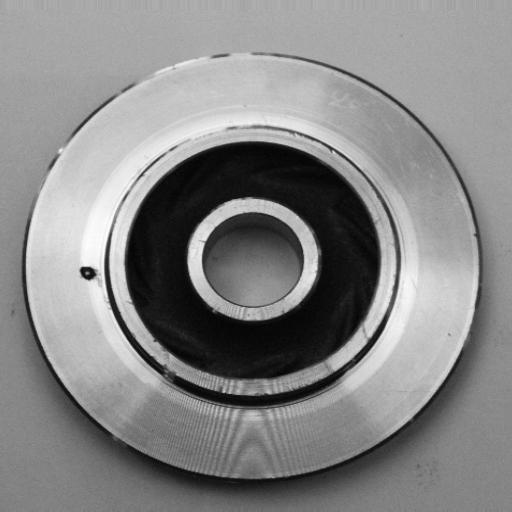pit: (69, 254, 101, 292)
scratch: (159, 116, 281, 155), (152, 355, 192, 400)
unpolished_casting: (24, 52, 484, 484)
